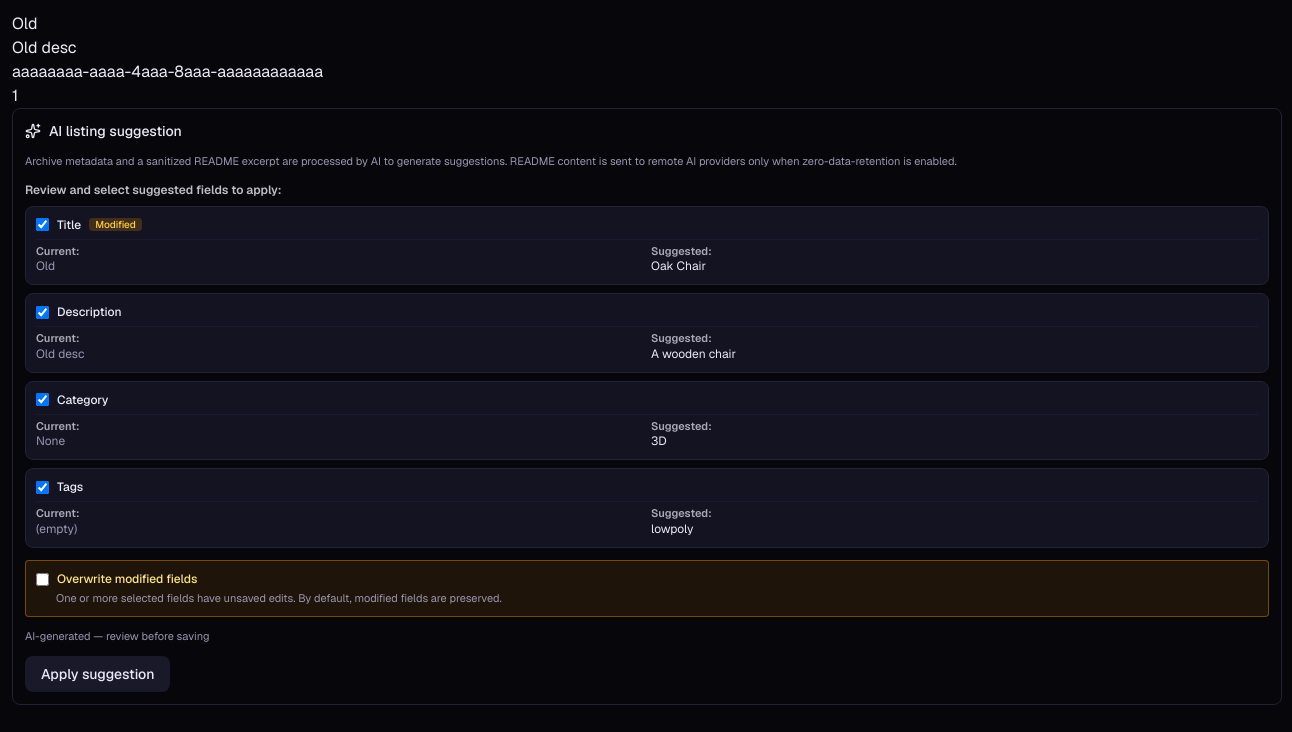
ListingCopilotPanel › preserves dirty fields by default when seller has not checked overwrite
The image size is (1292, 732).
Expected: the text "Oak Chair" is shown, [651,258,706,274]
Expected: the text "Modified" is shown, [89,218,142,231]
# Apply suggestion without checking overwrite
Click the button "Apply suggestion". click: [98, 674]
box: [25,656,170,692]
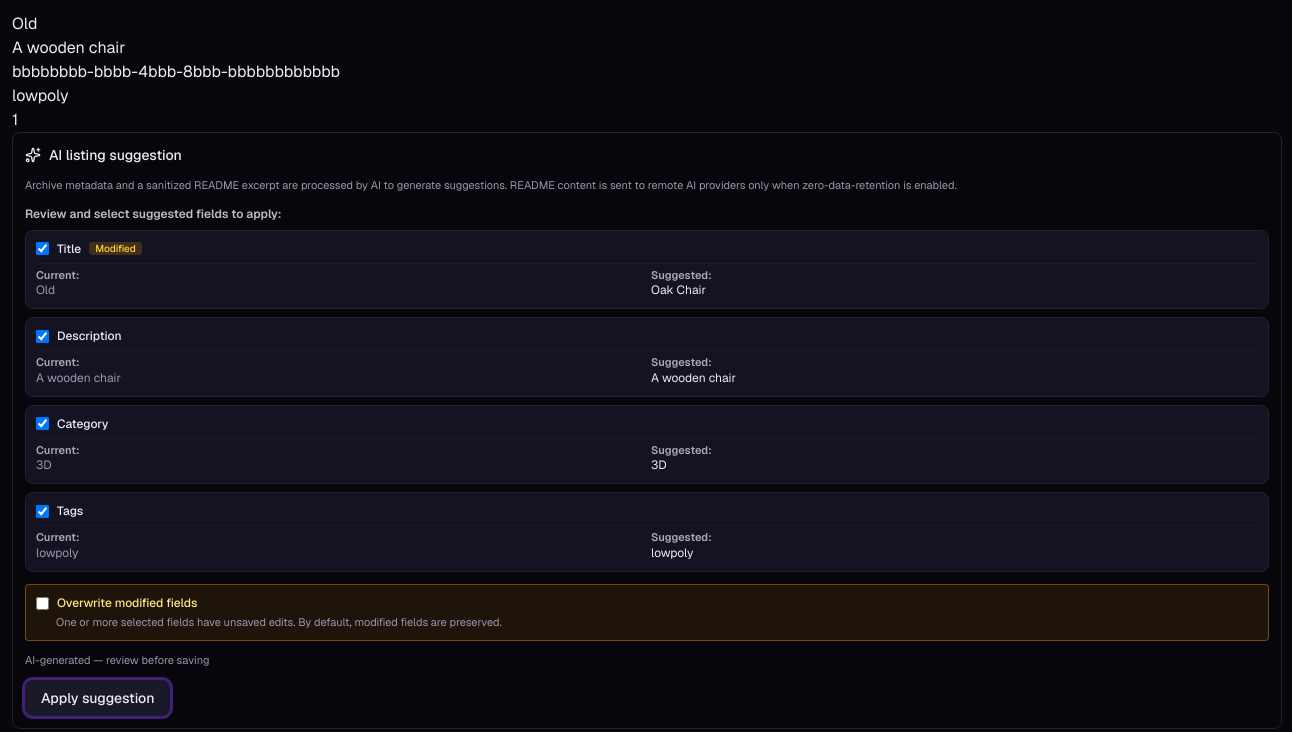
Expected: the text with test id "description" reads "A wooden chair", [12,37,125,58]
Expected: the text with test id "category" reads "bbbbbbbb-bbbb-4bbb-8bbb-bbbbbbbbbbbb", [12,61,340,82]
Expected: the text with test id "tags" reads "lowpoly", [12,85,69,106]
